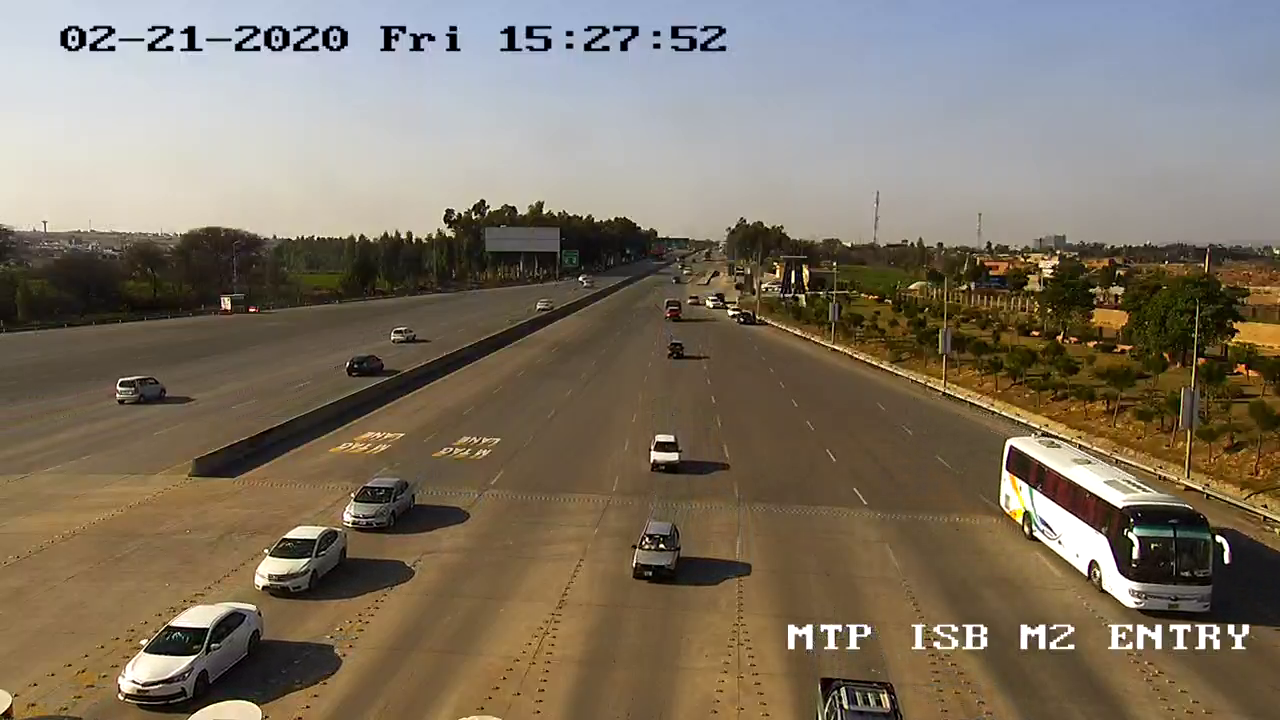f1: (106, 592, 268, 712), (239, 520, 352, 601), (339, 468, 425, 537), (625, 510, 689, 592)
f4: (994, 430, 1239, 620)
